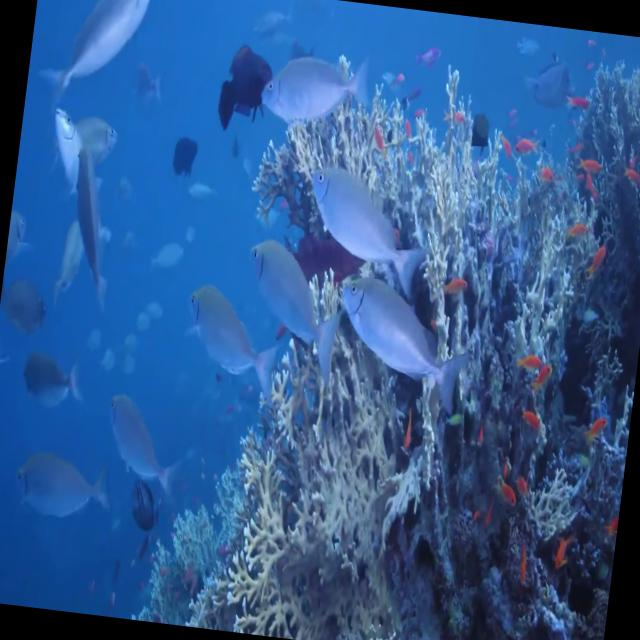fish: (316, 270, 486, 421), (294, 152, 438, 312), (154, 273, 291, 425), (235, 233, 348, 398), (246, 31, 382, 153), (34, 0, 171, 120), (56, 128, 130, 306), (6, 431, 132, 534), (204, 20, 286, 141), (95, 390, 194, 488), (14, 338, 86, 419), (40, 94, 96, 194), (526, 40, 590, 116), (0, 262, 52, 329), (160, 122, 207, 188), (140, 230, 193, 277), (4, 200, 34, 272), (512, 334, 552, 383), (463, 98, 496, 146), (510, 537, 542, 586), (583, 407, 615, 455), (507, 133, 551, 163), (488, 472, 518, 510), (620, 156, 640, 195)
